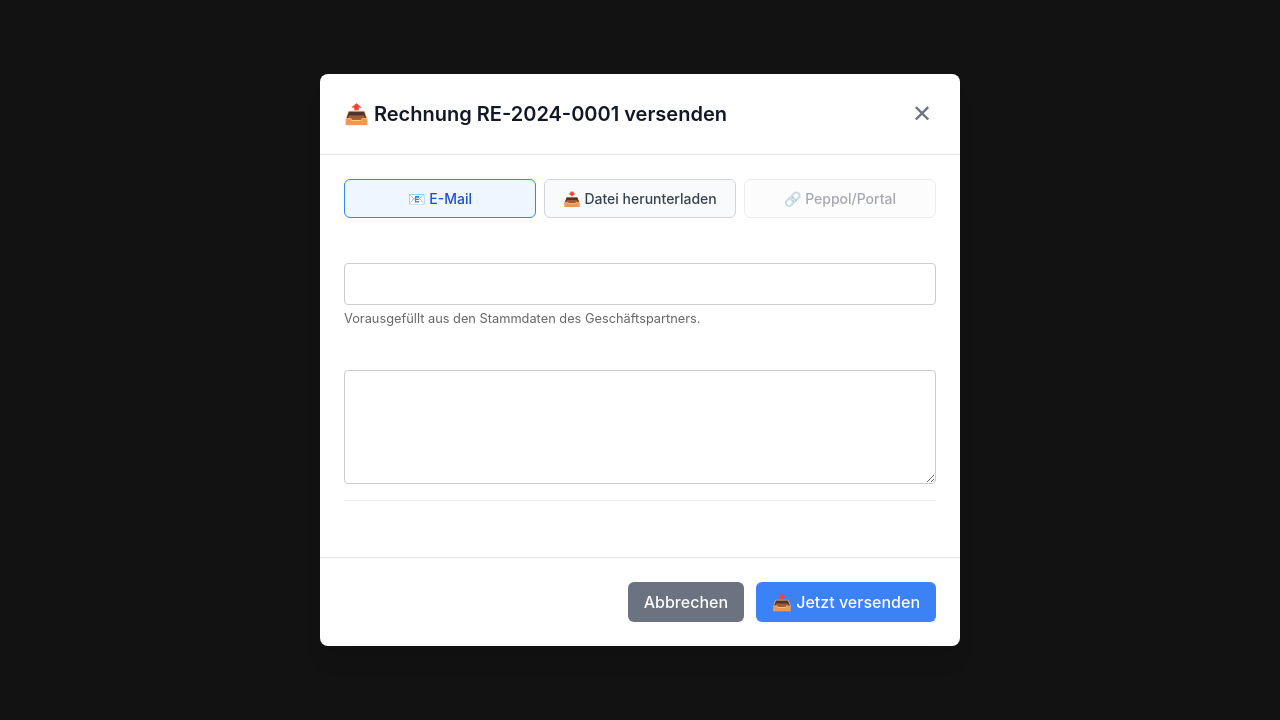
Scenario: SendInvoiceModal › download mode — B2B › shows PDF download info for B2B invoice
Step 1. Click the button with class "mode-btn" showing "📥 Datei herunterladen" → {"x": 640, "y": 198}, box [544,179,736,218]
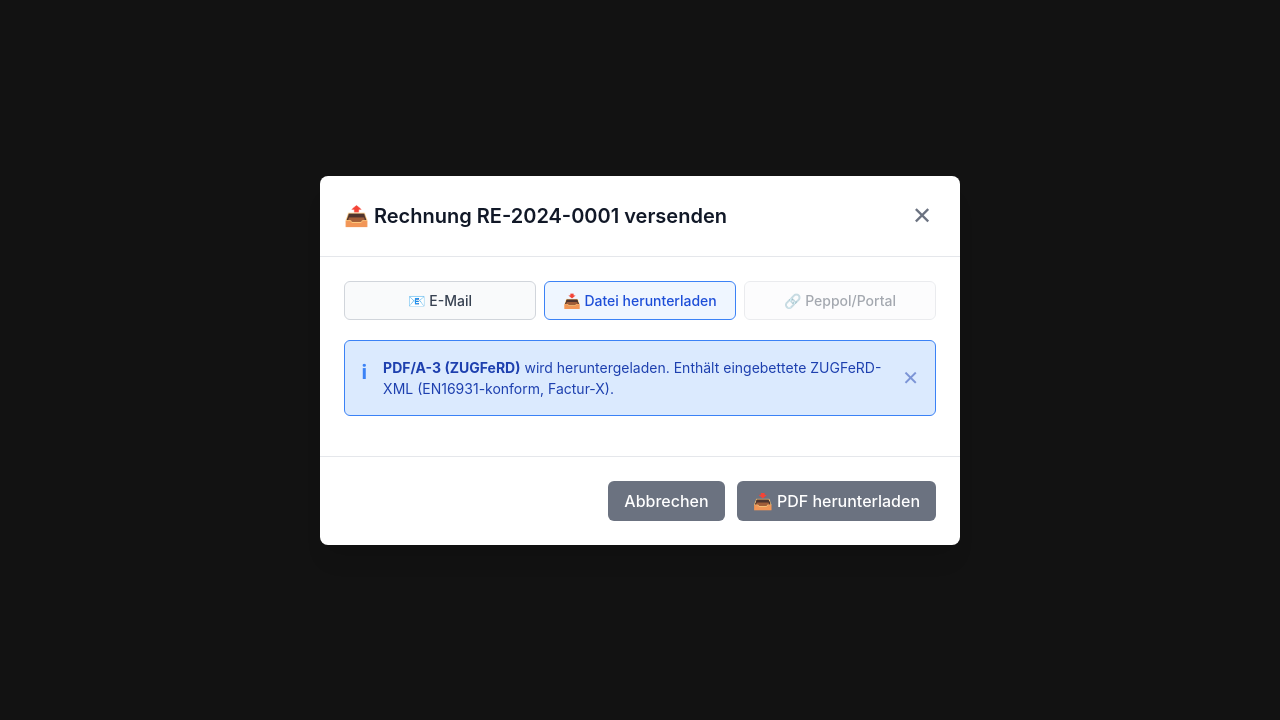
Expected: the text "PDF/A-3" is shown, [383,358,520,376]
